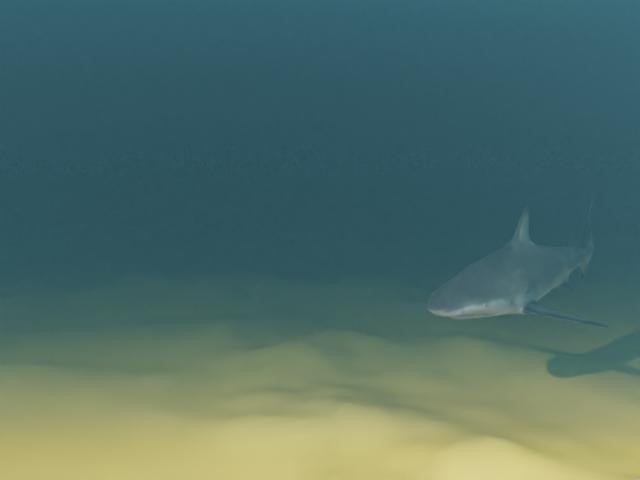Carribean Shark.001: (427, 191, 609, 327)
